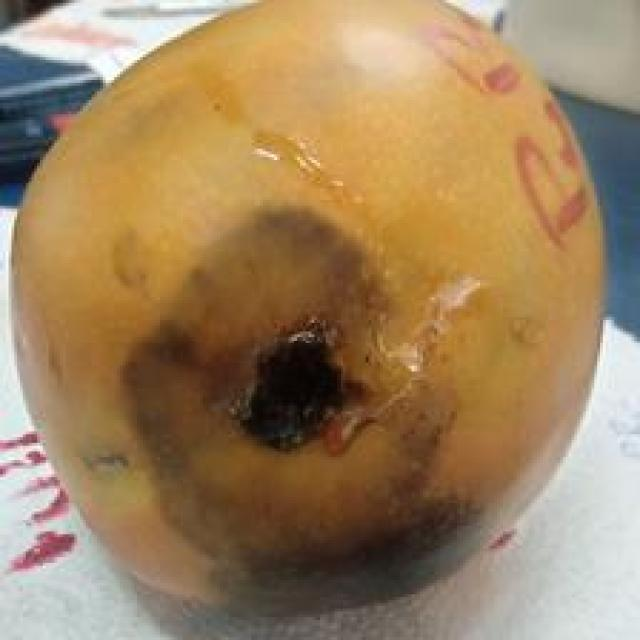Bad_Mango: (12, 0, 604, 603)
